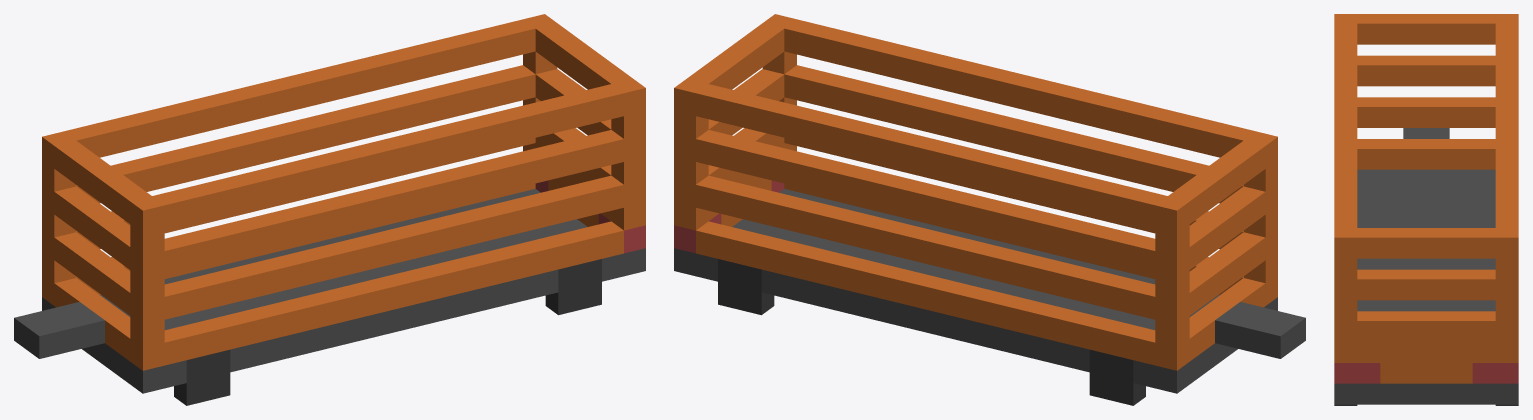
The model's file is tractor-trailer-v2-orange.gltf.
The picture shows the model from 3 angles, left to right: view 1: azimuth 30°, elevation 25°; view 2: azimuth 150°, elevation 25°; view 3: azimuth 270°, elevation 25°; orthographic projection. The views are drawn at different scales.
Parts seen in each view (by area): view 1: model, wheels; view 2: model, wheels; view 3: model.
Boxes of the visible parts, <box> form: model: <box>14,14,645,405</box>; wheels: <box>174,259,601,404</box>; model: <box>674,14,1305,405</box>; wheels: <box>718,261,1145,405</box>; model: <box>1334,14,1518,405</box>.
Bounding box in the file's own units: 2.6 × 0.9 × 0.8.
Materials: 2 (2 with a texture image).
